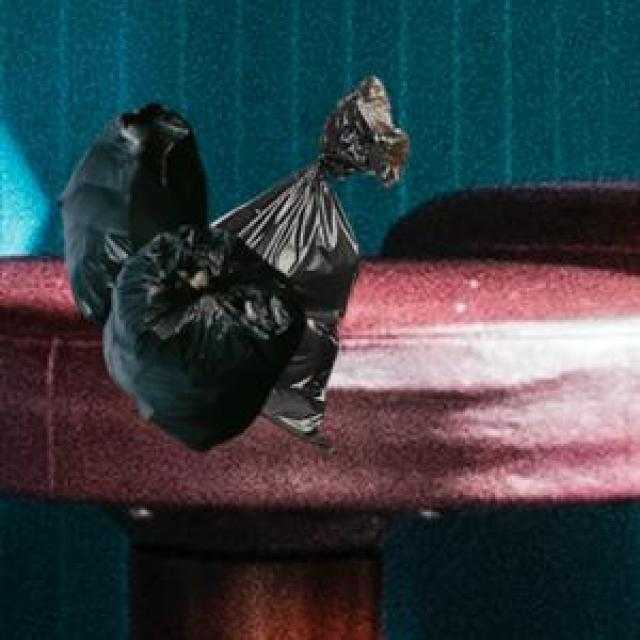Vinyl: (62, 76, 409, 449)
